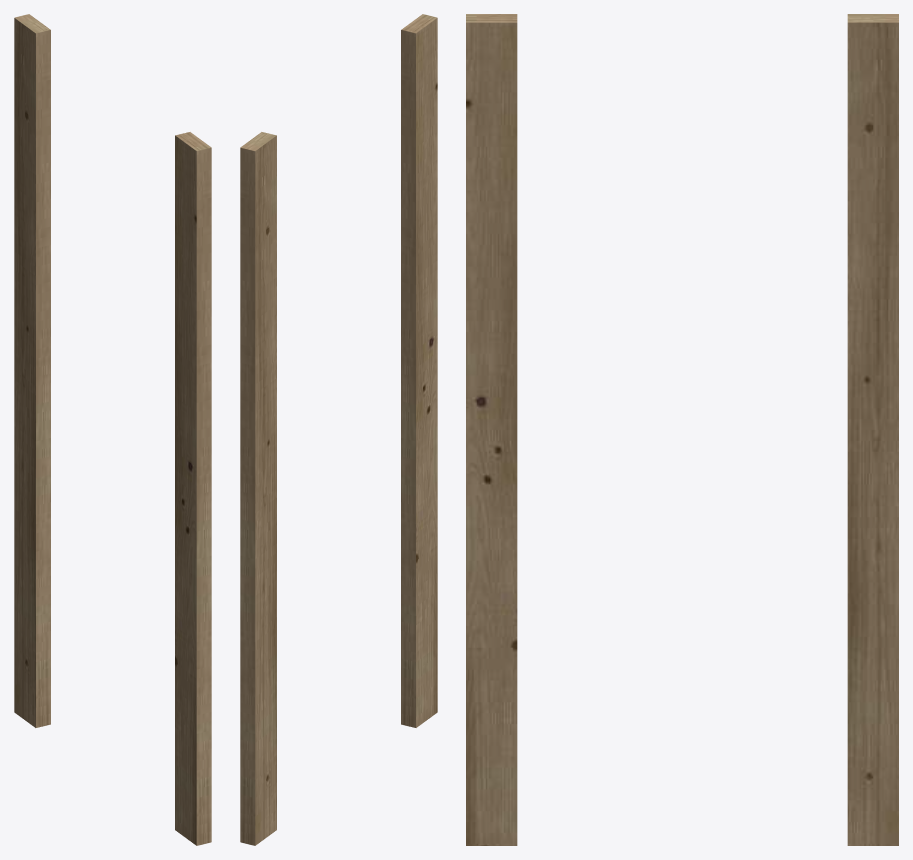
The model's file is Joglo_part_57.fbx.
3 renders of one model, left to right at view 1: azimuth 30°, elevation 25°; view 2: azimuth 150°, elevation 25°; view 3: azimuth 270°, elevation 25°, orthographic. The views are drawn at different scales.
Visible parts, largest first — view 1: Mesh149_Wood___Pine_Grained_Horizontal_0.001; view 2: Mesh149_Wood___Pine_Grained_Horizontal_0.001; view 3: Mesh149_Wood___Pine_Grained_Horizontal_0.001.
Boxes of the visible parts, x1,y1,x2,y2 form: Mesh149_Wood___Pine_Grained_Horizontal_0.001: [14, 14, 211, 845]; Mesh149_Wood___Pine_Grained_Horizontal_0.001: [240, 14, 437, 845]; Mesh149_Wood___Pine_Grained_Horizontal_0.001: [466, 14, 898, 845].
Bounding box in the file's own units: 1.57 × 69.76 × 33.23.
